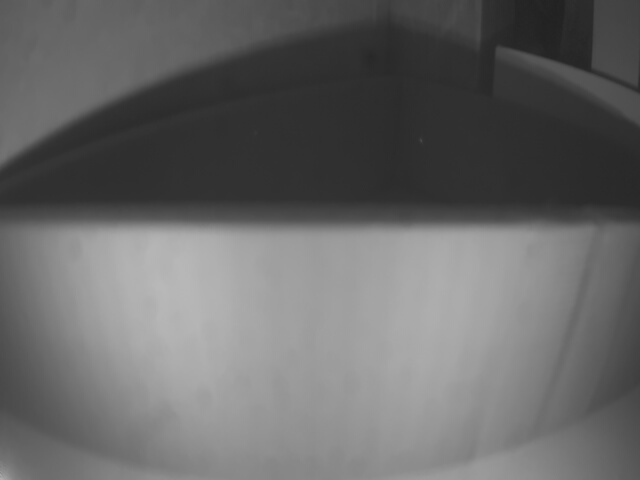Green: (3, 216, 640, 480)
